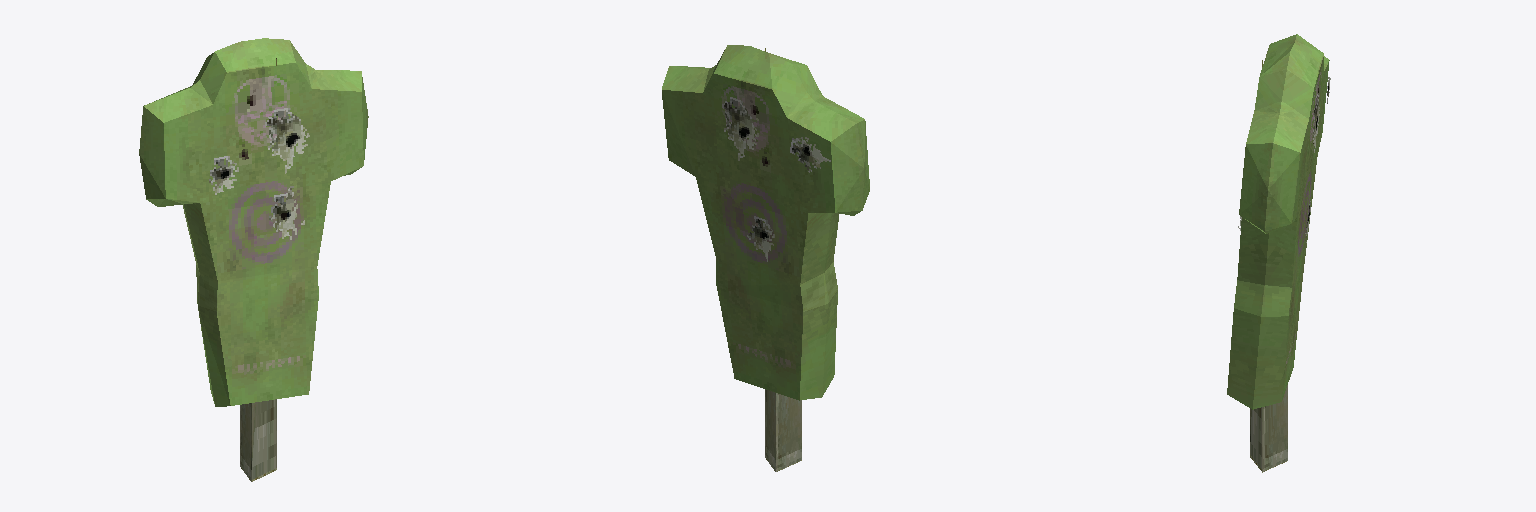
The picture shows the model from 3 angles: view 1: azimuth 30°, elevation 25°; view 2: azimuth 150°, elevation 25°; view 3: azimuth 270°, elevation 25°; orthographic projection.
Visible parts, largest first — view 1: Node 3, Node 2, Node 1, Node 0; view 2: Node 3, Node 2, Node 1, Node 0; view 3: Node 3, Node 1, Node 2, Node 0.
Boxes of the visible parts, box(x1,y1,x2,y2) form: Node 3: box(183, 182, 330, 406); Node 2: box(139, 38, 330, 206); Node 1: box(312, 70, 368, 180); Node 0: box(240, 58, 276, 481); Node 3: box(696, 177, 839, 400); Node 2: box(696, 45, 869, 215); Node 1: box(662, 66, 709, 176); Node 0: box(765, 48, 801, 471); Node 3: box(1227, 156, 1317, 409); Node 1: box(1239, 111, 1308, 233); Node 2: box(1254, 34, 1330, 215); Node 0: box(1250, 60, 1287, 472).
Size of the model in its own units: 1.44 by 2.72 by 0.62.
6 materials, 3 textured.